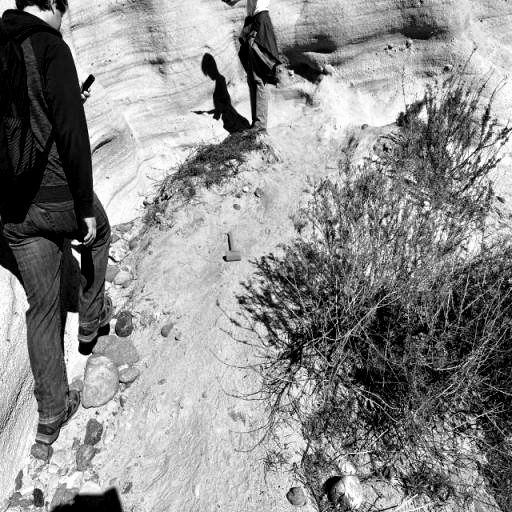mallet: (226, 231, 242, 261)
